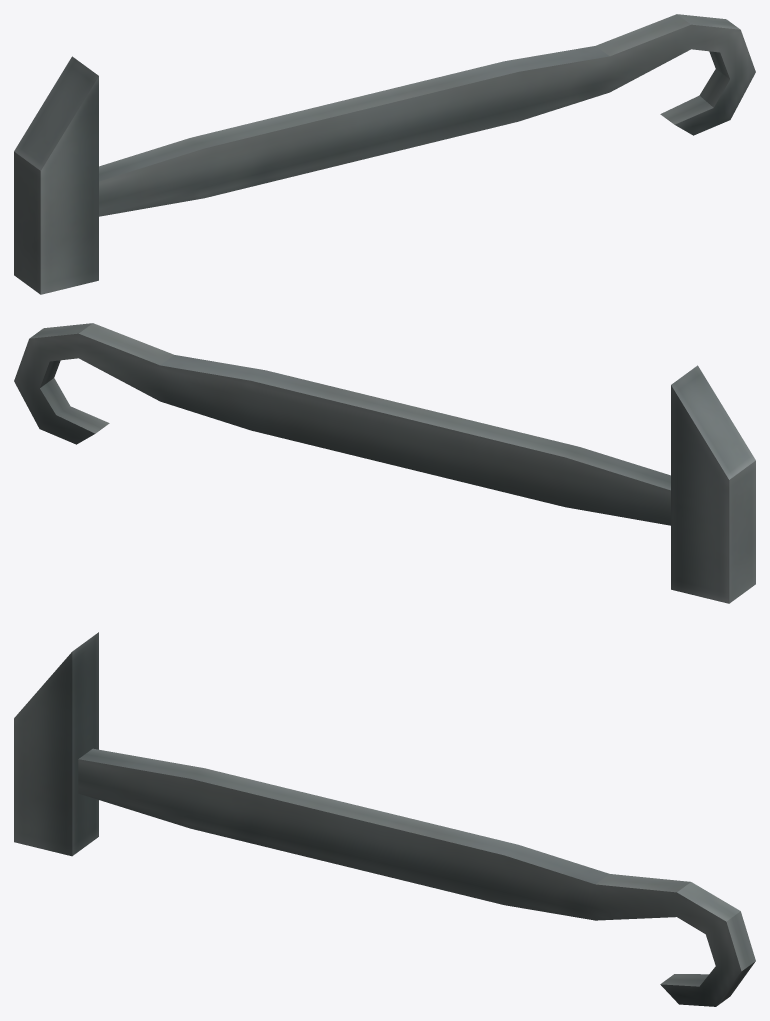
The model's file is WuZhengDiaoChaKe_01_gouchui_01.FBX.
3 views of the same model, one above another, from view 1: azimuth 30°, elevation 25°; view 2: azimuth 150°, elevation 25°; view 3: azimuth 330°, elevation 25° (orthographic).
Parts seen in each view (by area): view 1: WuZhengDiaoChaKe_01_gouchui_01; view 2: WuZhengDiaoChaKe_01_gouchui_01; view 3: WuZhengDiaoChaKe_01_gouchui_01.
Part boxes in pixels (box(x1,y1,x2,y2)): WuZhengDiaoChaKe_01_gouchui_01: box(14, 14, 755, 294); WuZhengDiaoChaKe_01_gouchui_01: box(14, 323, 755, 603); WuZhengDiaoChaKe_01_gouchui_01: box(14, 632, 755, 1006).
Size of the model in its own units: 346 by 96.71 by 22.26.
